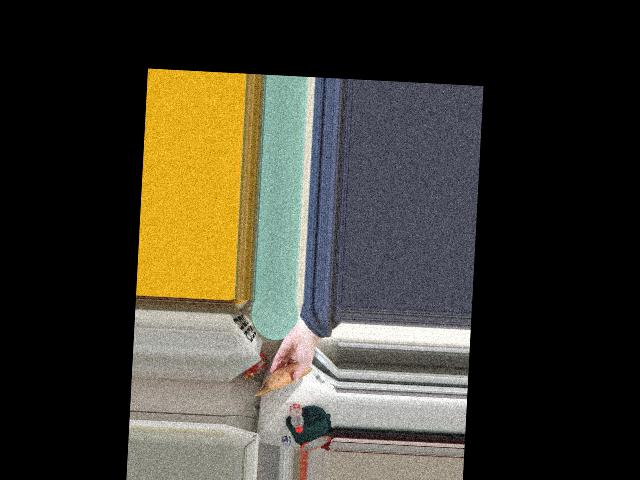sweet_potato: (268, 361, 303, 390)
